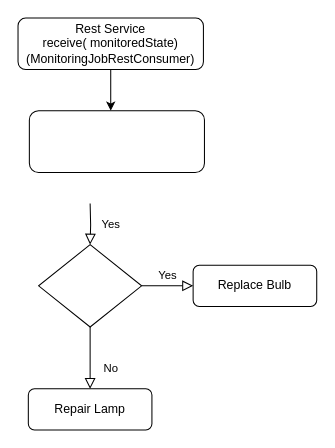
This 335x448 diagram has some shape labels left out. Here are the shapes that lost their labels. From the top down, the centre of each, then its label:
At [116,141]: "update".
At [90,285]: "Bulb burned out?".
